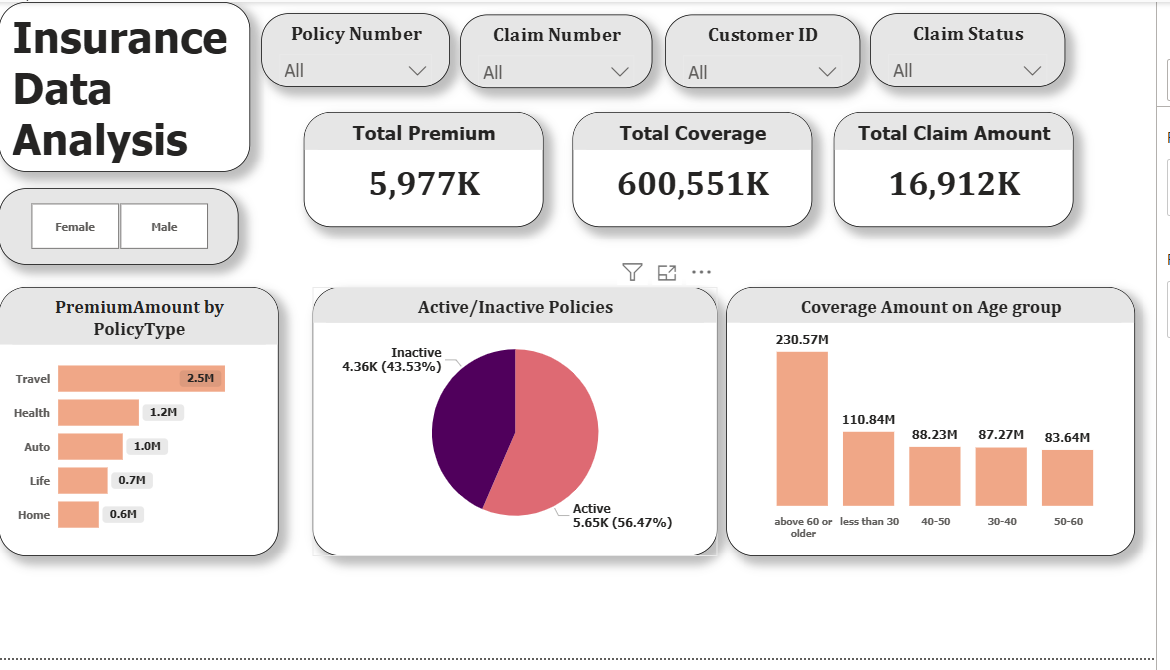

The dashboard page shown, as its layout file describes it:
{"tool":"powerbi","page":{"name":"Page 1","canvas":[1280,720],"ordinal":0},"visuals":[{"type":"textbox","title":"Insurance Data Analysis","box":[9.6,0,275.8,186.6],"z":0},{"type":"slicer","title":"Policy Number","fields":{"Values":["InsuranceData.PolicyNumber"]},"box":[297.8,12.3,207.2,81],"z":1000},{"type":"slicer","title":"Claim  Number","fields":{"Values":["InsuranceData.ClaimNumber"]},"box":[516,13.7,211.3,81],"z":2000},{"type":"slicer","title":"Customer ID","fields":{"Values":["InsuranceData.CustomerID"]},"box":[741,13.7,214.1,81],"z":3000},{"type":"slicer","title":"Claim Status","fields":{"Values":["InsuranceData.ClaimStatus"]},"box":[966,12.3,214.1,81],"z":4000},{"type":"slicer","fields":{"Values":["InsuranceData.Gender"]},"box":[9.6,204.5,263.5,83.7],"z":5000},{"type":"card","title":"Total Premium","fields":{"Values":["Sum(InsuranceData.PremiumAmount)"]},"box":[344.4,120.8,263.5,126.2],"z":6000},{"type":"card","title":"Total Coverage","fields":{"Values":["Sum(InsuranceData.CoverageAmount)"]},"box":[639.5,120.8,263.5,126.2],"z":7000},{"type":"card","title":"Total Claim Amount","fields":{"Values":["Sum(InsuranceData.ClaimAmount)"]},"box":[926.2,120.8,263.5,126.2],"z":8000},{"type":"barChart","title":"PremiumAmount by PolicyType","fields":{"Category":["InsuranceData.PolicyType"],"Y":["Sum(InsuranceData.PremiumAmount)"]},"box":[9.6,312.9,307.4,295],"z":9000},{"type":"pieChart","title":"Active/Inactive  Policies","fields":{"Category":["InsuranceData.Active/Inactive "],"Y":["CountNonNull(InsuranceData.Active/Inactive )"]},"box":[354,312.9,444.6,295],"z":10000},{"type":"columnChart","title":"Coverage Amount by Age group","fields":{"Category":["InsuranceData.Age group"],"Y":["Sum(InsuranceData.CoverageAmount)"]},"box":[808.2,312.9,448.7,295],"z":11000}]}

Visuals, with their boxes in screenshot pixels (x1, y1, x2, y2), scaled from the page's 1280x720 canvas onto the 1170x670 screenshot:
"Insurance Data Analysis" textbox: 9/0/261/174
"Policy Number" slicer: 272/11/462/87
"Claim  Number" slicer: 472/13/665/88
"Customer ID" slicer: 677/13/873/88
"Claim Status" slicer: 883/11/1079/87
slicer - InsuranceData.Gender: 9/190/250/268
"Total Premium" card: 315/112/556/230
"Total Coverage" card: 585/112/825/230
"Total Claim Amount" card: 847/112/1087/230
"PremiumAmount by PolicyType" barChart: 9/291/290/566
"Active/Inactive  Policies" pieChart: 324/291/730/566
"Coverage Amount by Age group" columnChart: 739/291/1149/566
